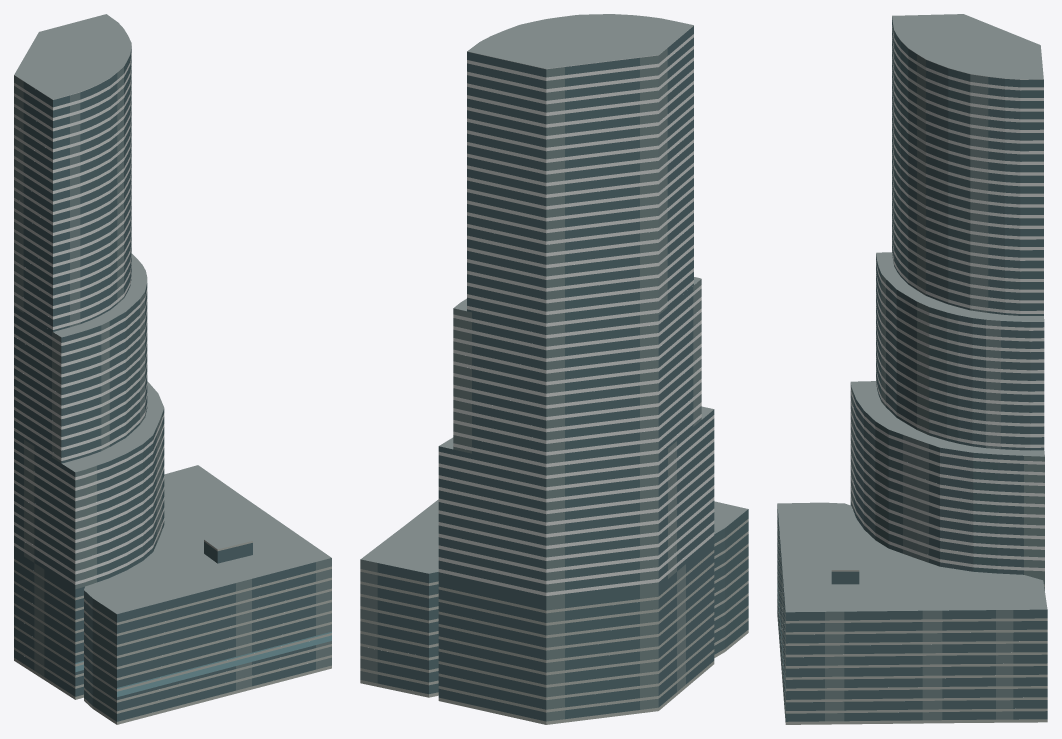
The model's file is miami-tower-far.glb.
3 renders of one model, left to right at view 1: azimuth 30°, elevation 25°; view 2: azimuth 150°, elevation 25°; view 3: azimuth 270°, elevation 25°, orthographic. The views are drawn at different scales.
Visible parts, largest first — view 1: miami-tower-0-glass, miami-tower-0-roof, miami-tower-0-light, miami-tower-0-reflection, miami-tower-0-stone, miami-tower-0-glow; view 2: miami-tower-0-glass, miami-tower-0-light, miami-tower-0-reflection, miami-tower-0-stone, miami-tower-0-roof; view 3: miami-tower-0-glass, miami-tower-0-light, miami-tower-0-roof, miami-tower-0-reflection, miami-tower-0-stone.
Boxes of the visible parts, left/top/right/bottom form: miami-tower-0-glass: left=14, top=46, right=315, bottom=721; miami-tower-0-roof: left=14, top=14, right=331, bottom=613; miami-tower-0-light: left=14, top=53, right=164, bottom=584; miami-tower-0-reflection: left=14, top=67, right=331, bottom=690; miami-tower-0-stone: left=14, top=540, right=331, bottom=724; miami-tower-0-glow: left=75, top=631, right=331, bottom=697; miami-tower-0-glass: left=377, top=26, right=748, bottom=721; miami-tower-0-light: left=438, top=25, right=714, bottom=595; miami-tower-0-reflection: left=360, top=48, right=701, bottom=721; miami-tower-0-stone: left=360, top=519, right=748, bottom=724; miami-tower-0-roof: left=361, top=14, right=747, bottom=573; miami-tower-0-glass: left=777, top=17, right=1047, bottom=721; miami-tower-0-light: left=850, top=25, right=1044, bottom=571; miami-tower-0-roof: left=777, top=14, right=1047, bottom=612; miami-tower-0-reflection: left=782, top=27, right=1044, bottom=721; miami-tower-0-stone: left=777, top=513, right=1047, bottom=724.
Size of the model in its own units: 78.39 by 191 by 78.19.
